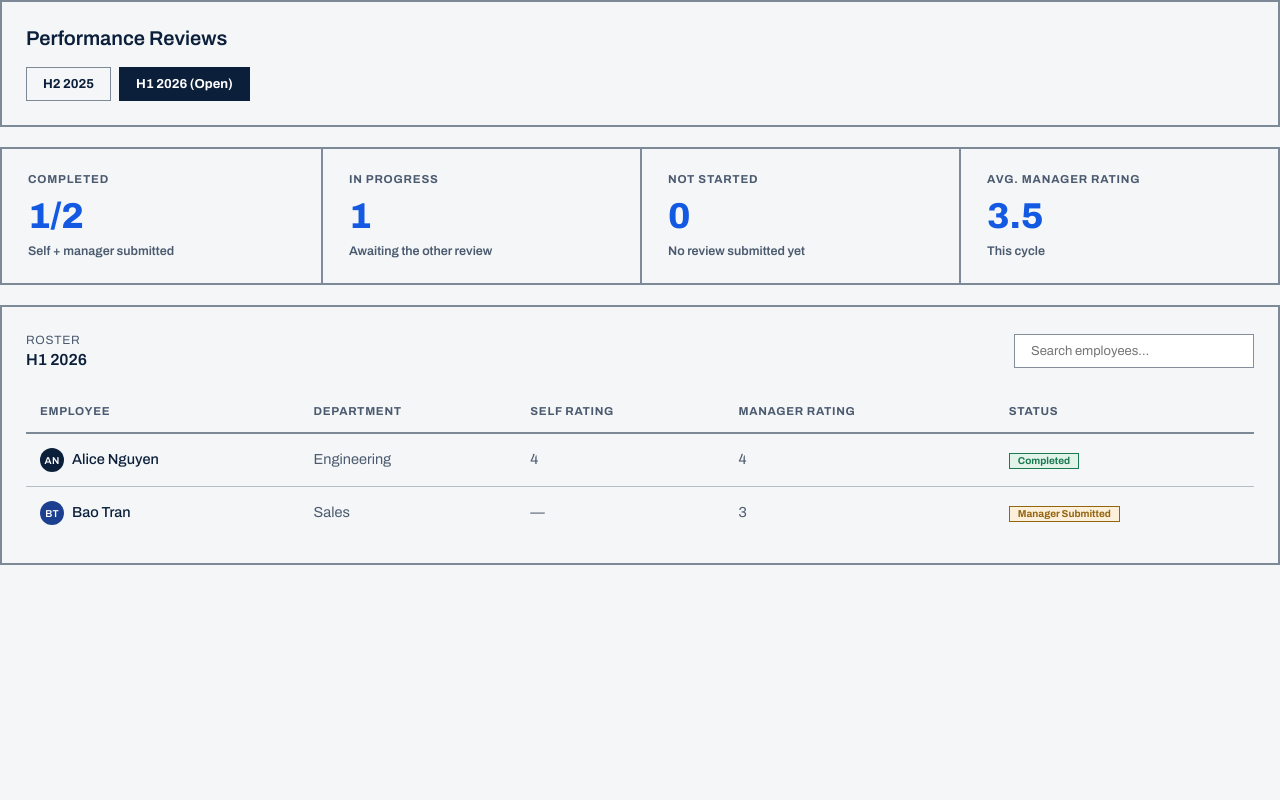
Scenario: Performance › filters the roster by search text
Check: the text "Alice Nguyen" is shown, box [72,449,159,471]
Type "bao" into the field with placeholder "Search employees…" at coordinates (1134, 351), box [1014,334,1254,368]
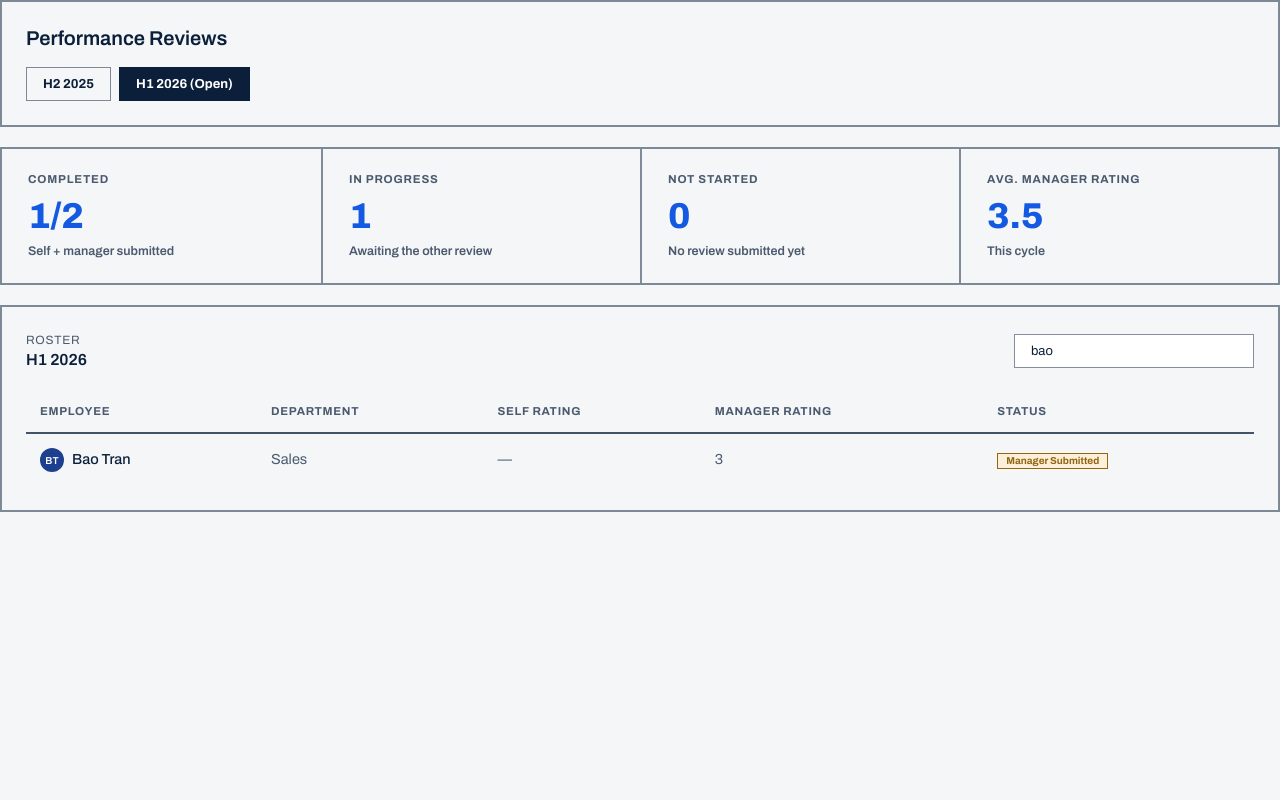
Check: the text "Bao Tran" is shown, box [72,449,131,471]
Check: the text "Alice Nguyen" is gone
